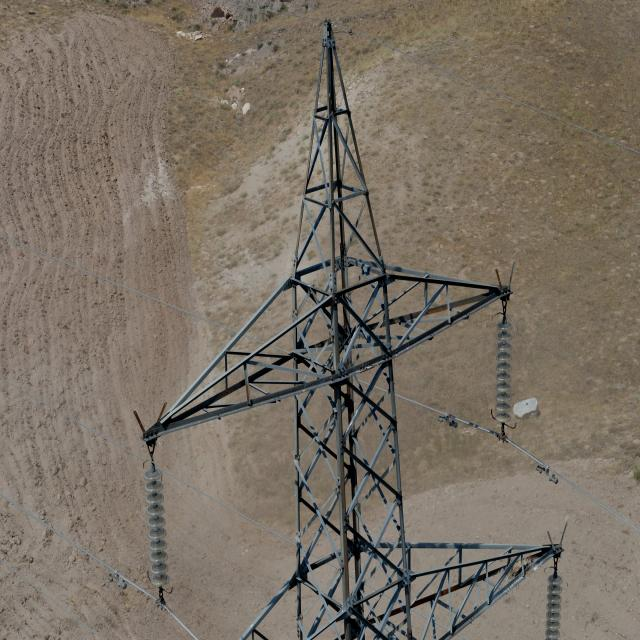voltage_line: (129, 23, 563, 640)
